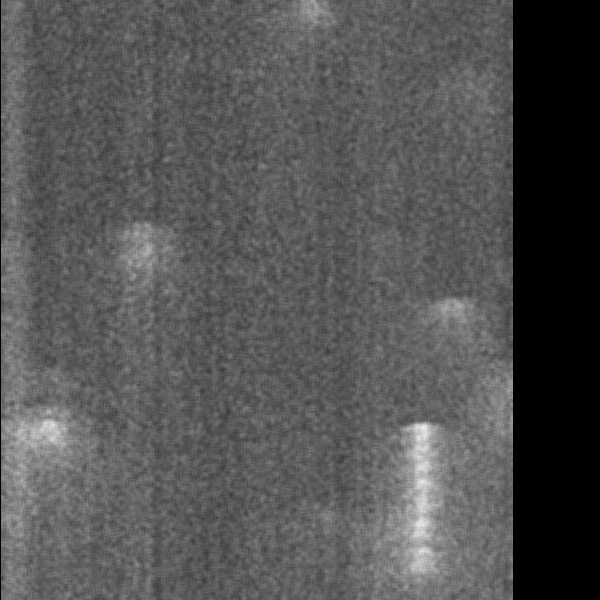spark: (237, 565, 280, 600), (180, 117, 215, 151), (164, 433, 187, 462)
